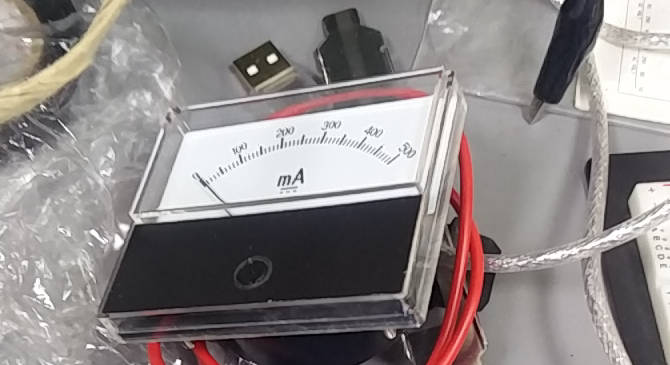MilliAmp_Meter: (143, 85, 465, 224)
